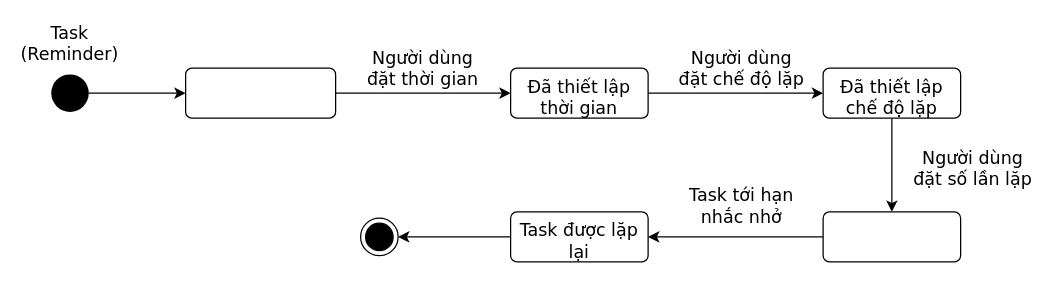
This 1058x284 diagram has some shape labels left out. Each missing label, with the box of its shape:
Chưa thiết lập thời gian: (184, 67, 336, 118)
Đã thiết lập số lần lặp: (822, 211, 961, 262)
